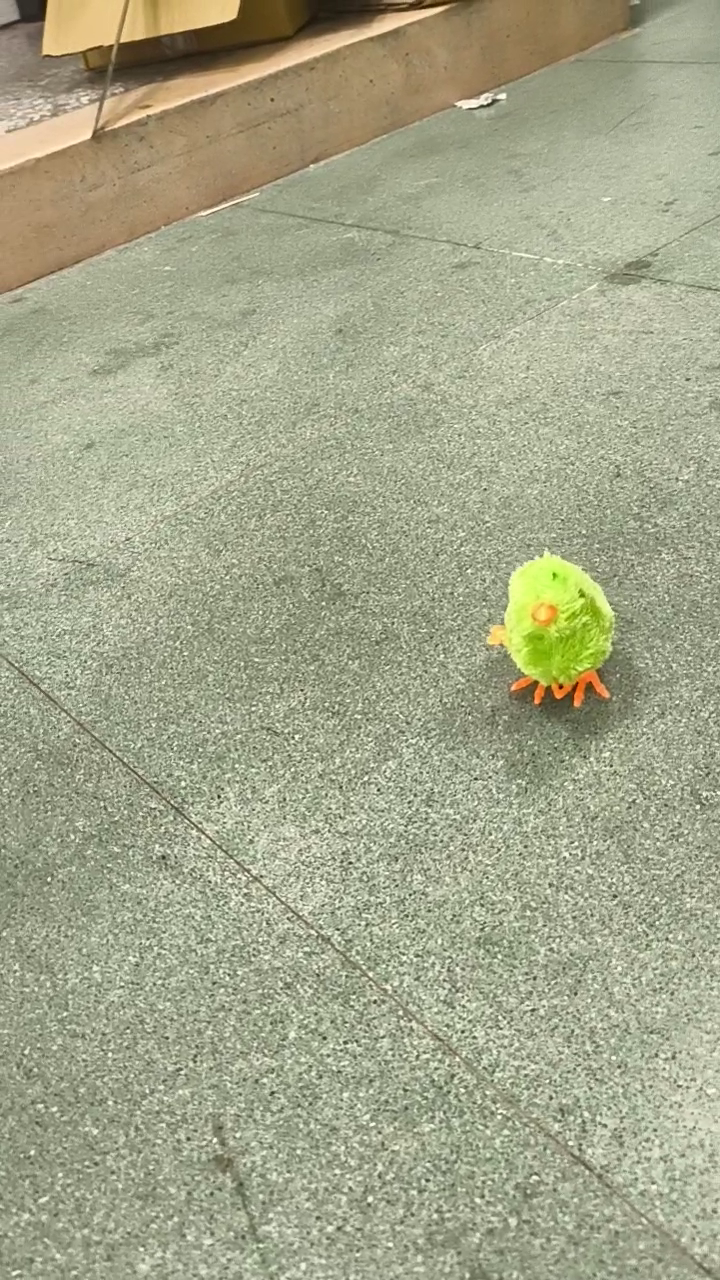green chicken: (482, 548, 623, 715)
